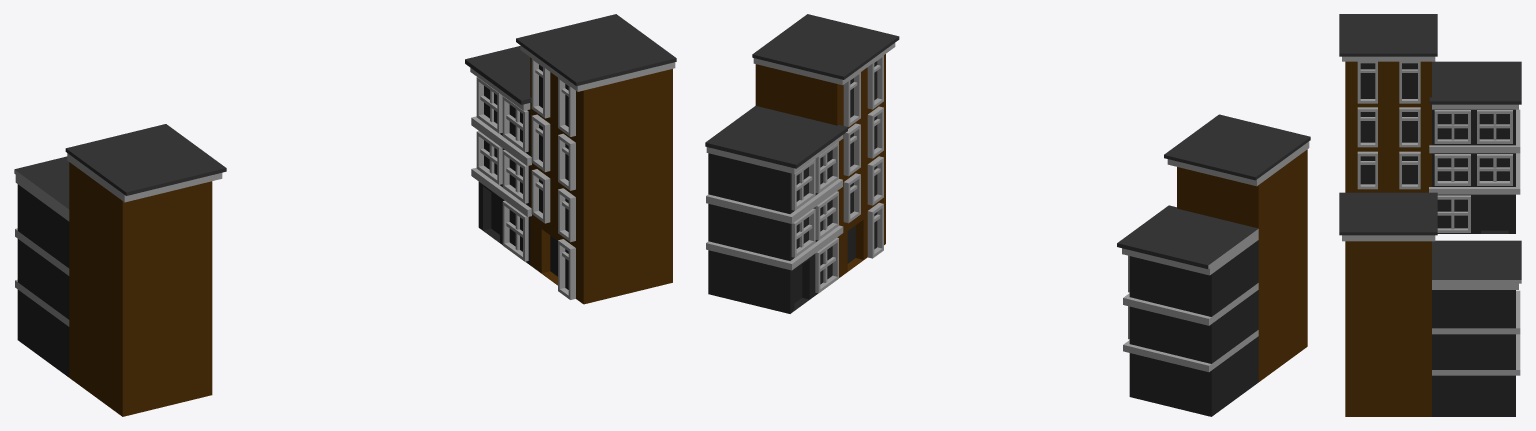
File: House6.fbx
3 renders of one model, left to right at view 1: azimuth 30°, elevation 25°; view 2: azimuth 150°, elevation 25°; view 3: azimuth 270°, elevation 25°, orthographic. The views are drawn at different scales.
Parts seen in each view (by area): view 1: House3.002; view 2: House3.002; view 3: House3.002.
Part boxes in pixels (<box>): House3.002: <box>14,14,676,416</box>; House3.002: <box>705,14,1310,416</box>; House3.002: <box>1339,14,1521,416</box>.
Size of the model in its own units: 3248 by 1280 by 1145.
